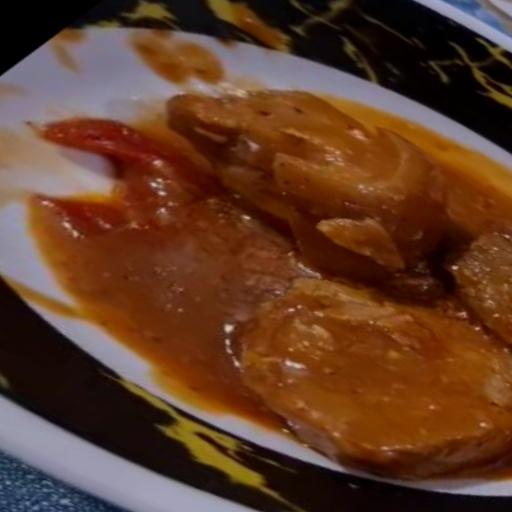pork caldereta: (8, 88, 511, 466)
